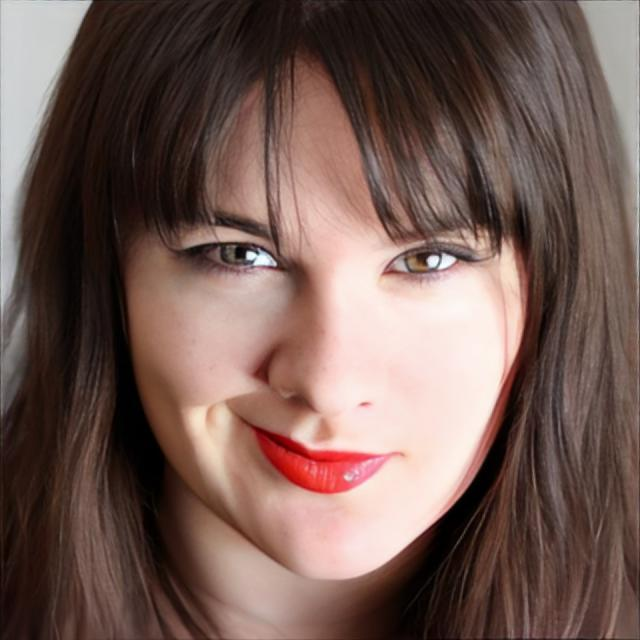content: (114, 40, 524, 583)
